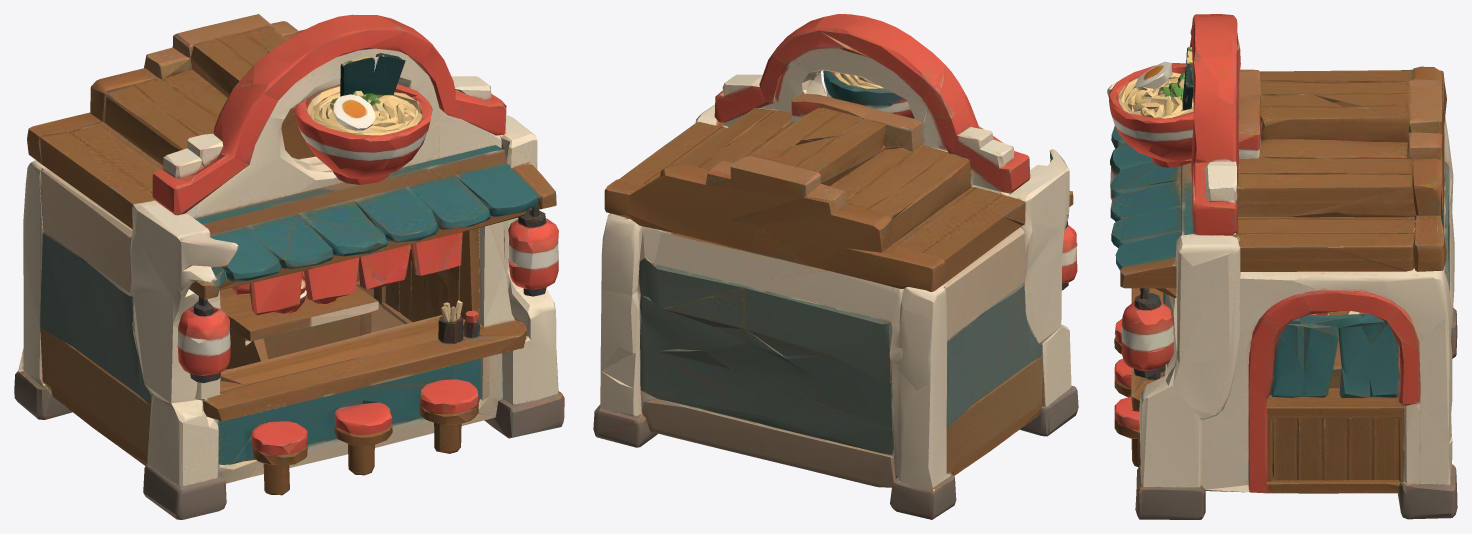
The model's file is stallHeritage.glb.
3 views of the same model, side by side, from view 1: azimuth 30°, elevation 25°; view 2: azimuth 150°, elevation 25°; view 3: azimuth 270°, elevation 25° (orthographic). The views are drawn at different scales.
Visible parts, largest first — view 1: Mesh_0; view 2: Mesh_0; view 3: Mesh_0.
Part boxes in pixels (bbox=[...]): Mesh_0: bbox=[14, 14, 564, 519]; Mesh_0: bbox=[593, 14, 1078, 519]; Mesh_0: bbox=[1107, 14, 1457, 519].
Size of the model in its own units: 2.73 by 2.8 by 2.18.
1 material, 1 textured.
